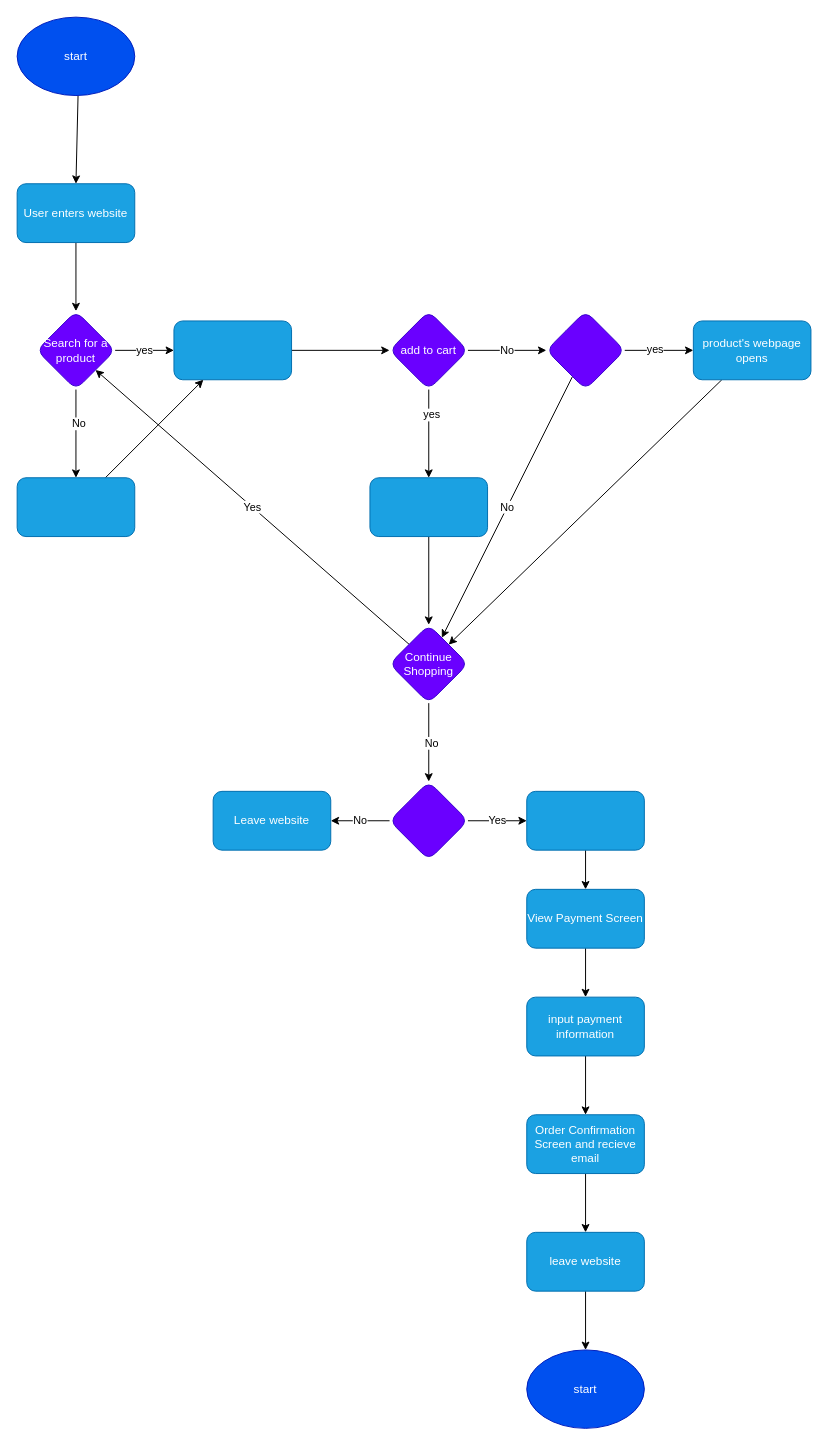
Image size: 828x1446. Some labels were removed from this diagram. Each missing label, with the box of its shape:
added to cart confirmation: (369, 477, 488, 537)
Checkout: (389, 781, 468, 860)
look over products: (173, 320, 292, 380)
provide input for search: (16, 477, 135, 537)
View Cart Screen: (526, 790, 644, 850)
View Item: (545, 310, 625, 390)
